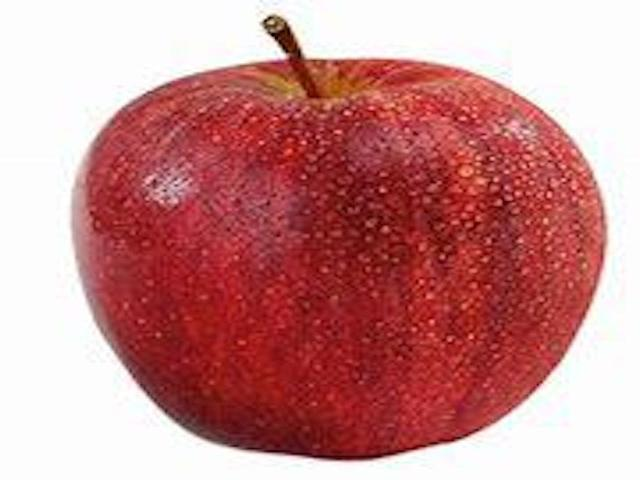apple: (63, 8, 613, 464)
